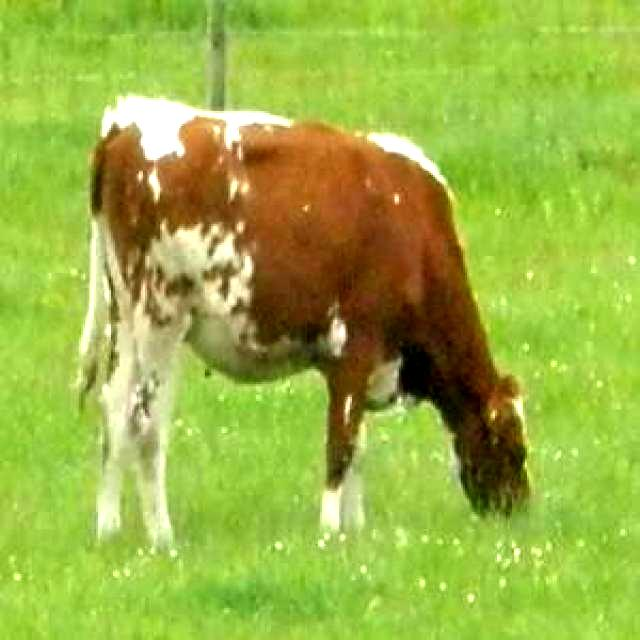COW: (82, 98, 528, 547)
